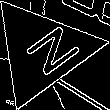N_SW: (8, 19, 76, 82)
